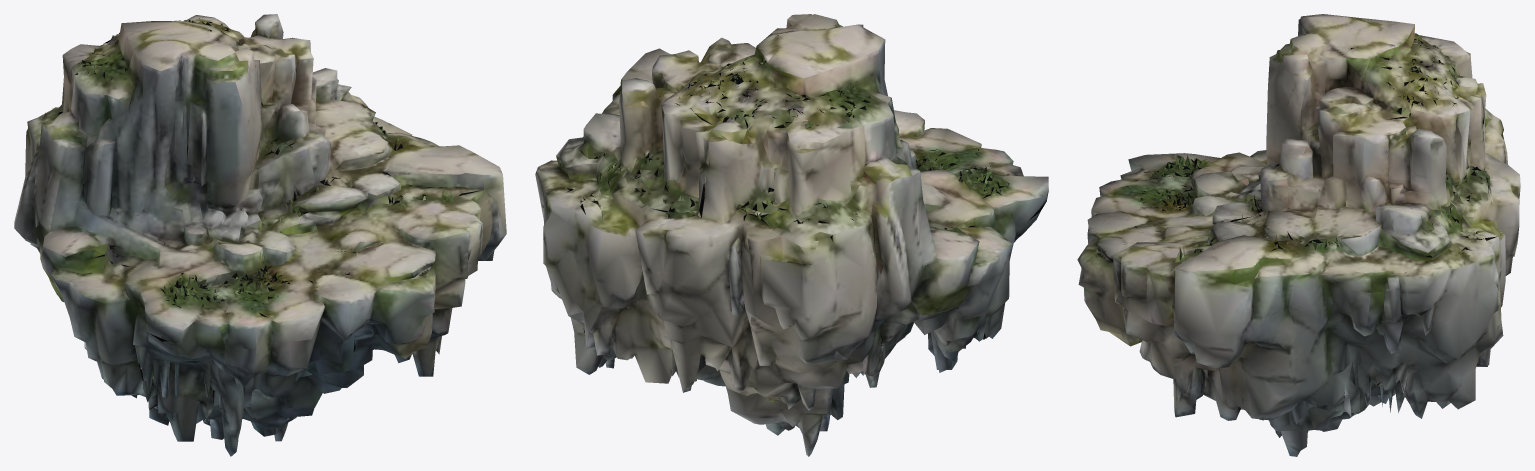
Rendered from limestone_b.glb.
The picture shows the model from 3 angles, left to right: view 1: azimuth 30°, elevation 25°; view 2: azimuth 150°, elevation 25°; view 3: azimuth 270°, elevation 25°; orthographic projection. The views are drawn at different scales.
Parts seen in each view (by area): view 1: limestone_b_00; view 2: limestone_b_00; view 3: limestone_b_00.
Boxes of the visible parts, box(x1,y1,x2,y2) form: limestone_b_00: box(14, 14, 506, 456); limestone_b_00: box(535, 14, 1048, 456); limestone_b_00: box(1077, 14, 1520, 456).
Size of the model in its own units: 1.87 by 1.86 by 1.88.
Materials: 1 (1 with a texture image).
